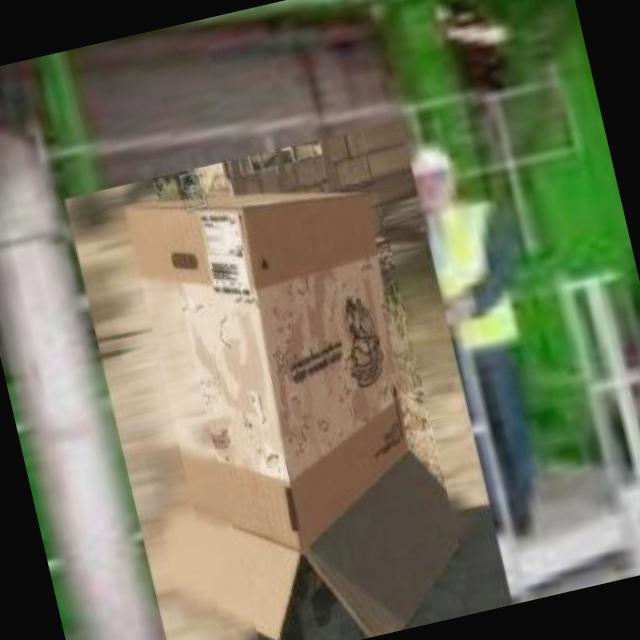box: (57, 110, 518, 640)
